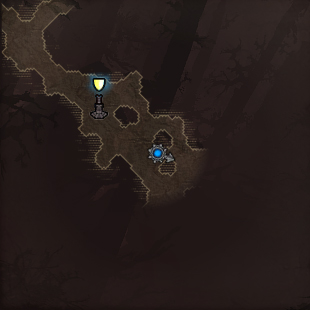ShieldPylon: (90, 75, 107, 120)
